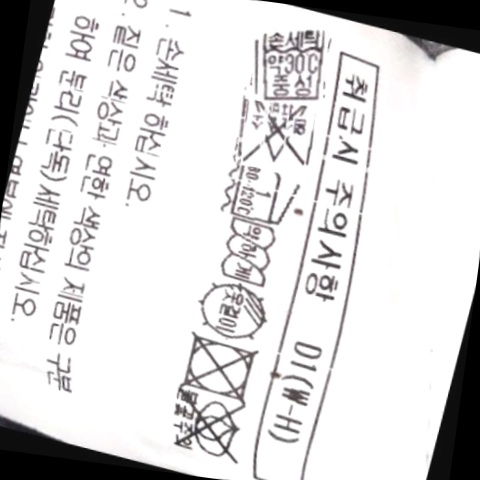DN_tumble_dry: (171, 328, 265, 405)
hand_wash: (247, 24, 335, 106)
iron_low: (224, 160, 300, 229)
line_dry_in_shade: (190, 277, 277, 345)
wring: (215, 216, 280, 290)
